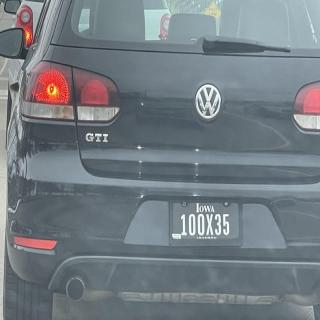license: (170, 201, 244, 248)
